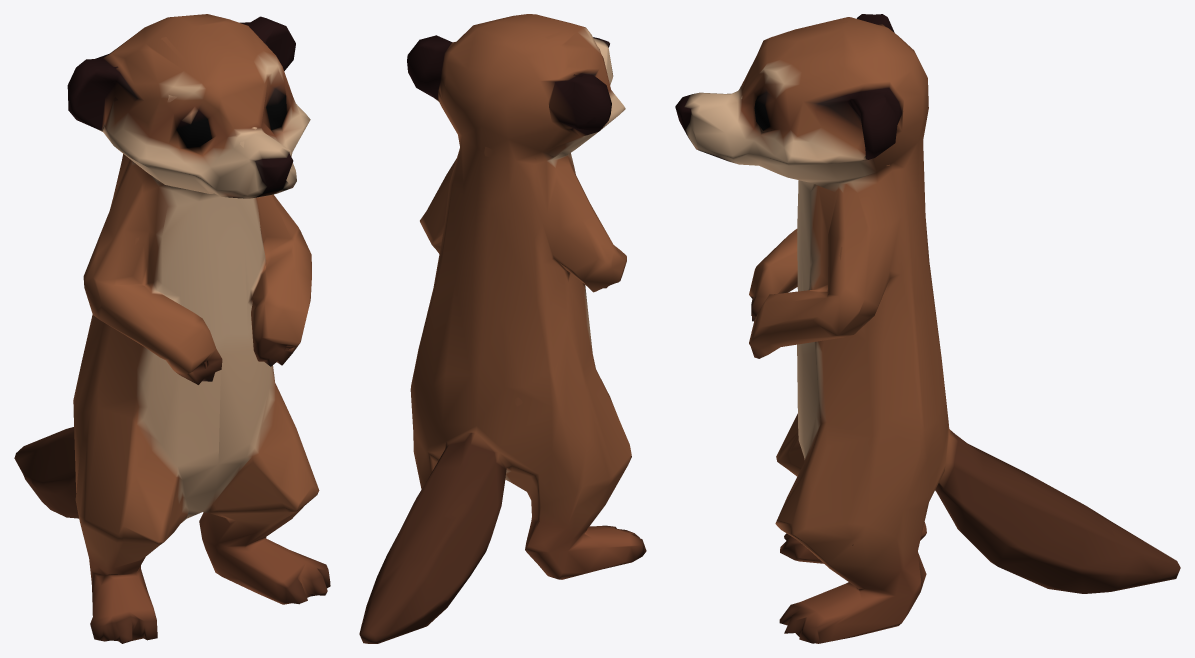
The model's file is gen3d-meerkat-lod0.glb.
3 views of the same model, side by side, from view 1: azimuth 30°, elevation 25°; view 2: azimuth 150°, elevation 25°; view 3: azimuth 270°, elevation 25° (orthographic). The views are drawn at different scales.
Parts seen in each view (by area): view 1: part_0; view 2: part_0; view 3: part_0.
Part boxes in pixels (x1,y1,x2,y2): part_0: [14, 14, 330, 643]; part_0: [359, 14, 646, 643]; part_0: [675, 14, 1180, 643].
Size of the model in its own units: 0.432 by 0.9999 by 0.8142.
